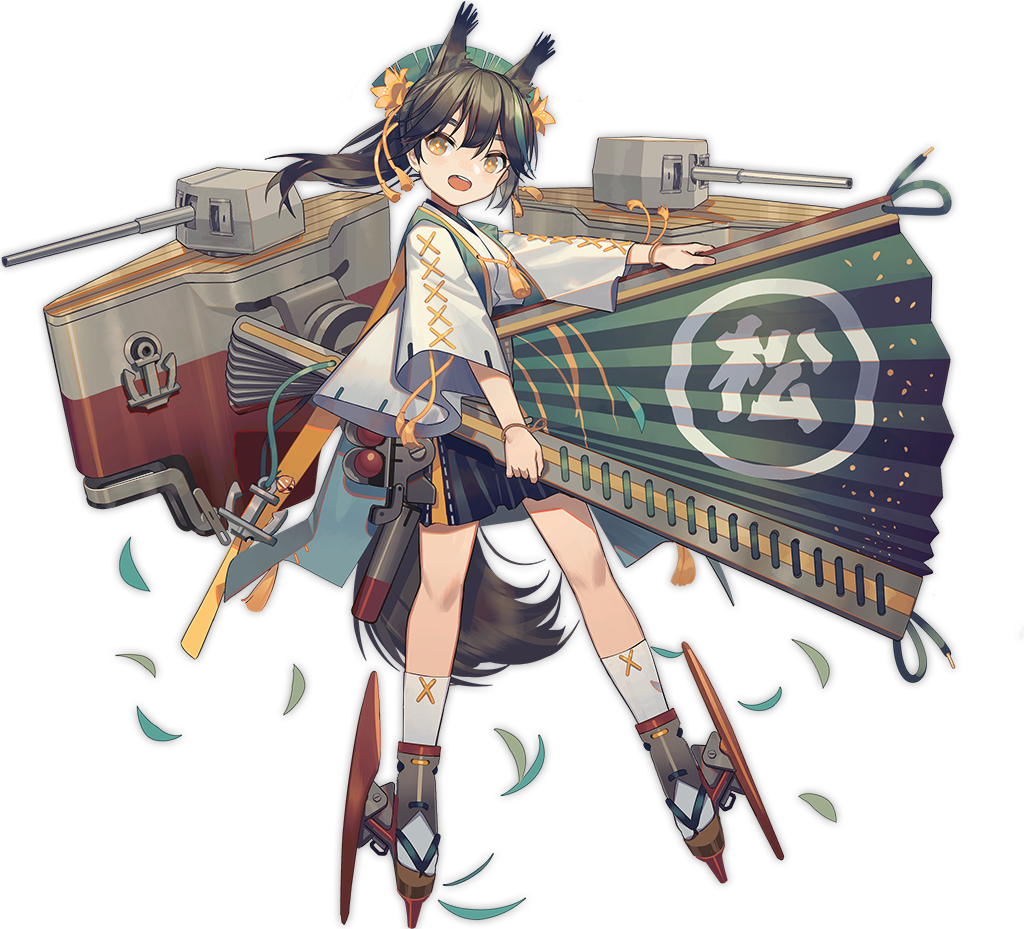person: (200, 51, 724, 763)
